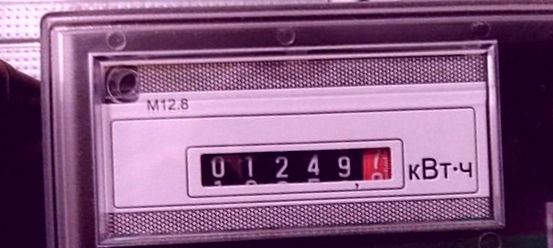0: (209, 153, 229, 181)
1: (241, 152, 258, 180)
2: (271, 154, 291, 182)
4: (304, 152, 323, 178)
7: (368, 145, 386, 173)
9: (334, 153, 354, 181)
screen: (180, 119, 412, 219)
